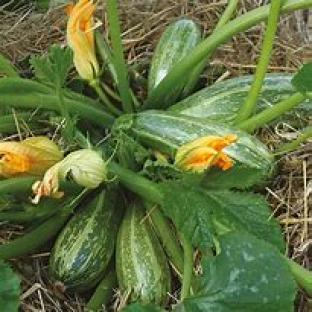Zucchini: (115, 112, 273, 187), (49, 189, 121, 290), (116, 200, 170, 304), (169, 75, 254, 124), (148, 19, 200, 92)
